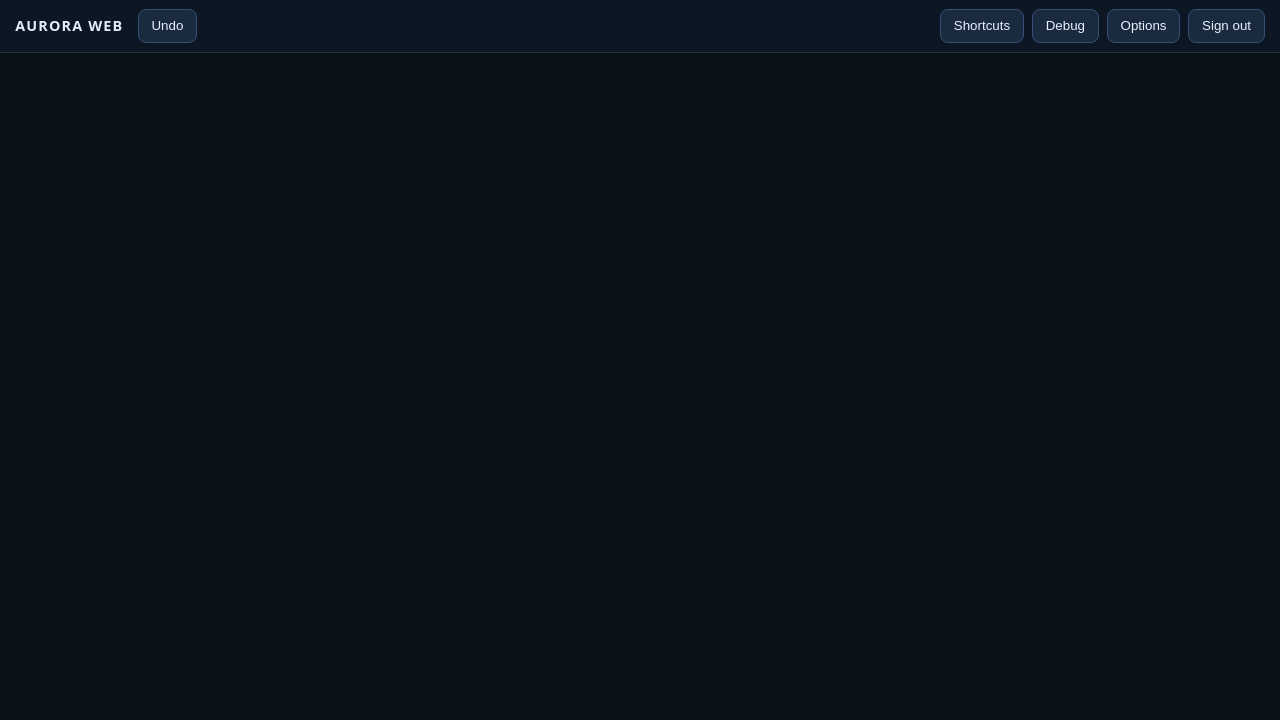
Scenario: WorkspaceTopbar facades injection › keeps placeables mode topbar focused without area editor groups or options
Expected: the button "Undo" is shown, [138,9,197,43]
What coordinates should you click on to do the following:
click the button with aria-label "open quick options"
I would click on:
 (1144, 26)
Its box is [1107,9,1180,43].
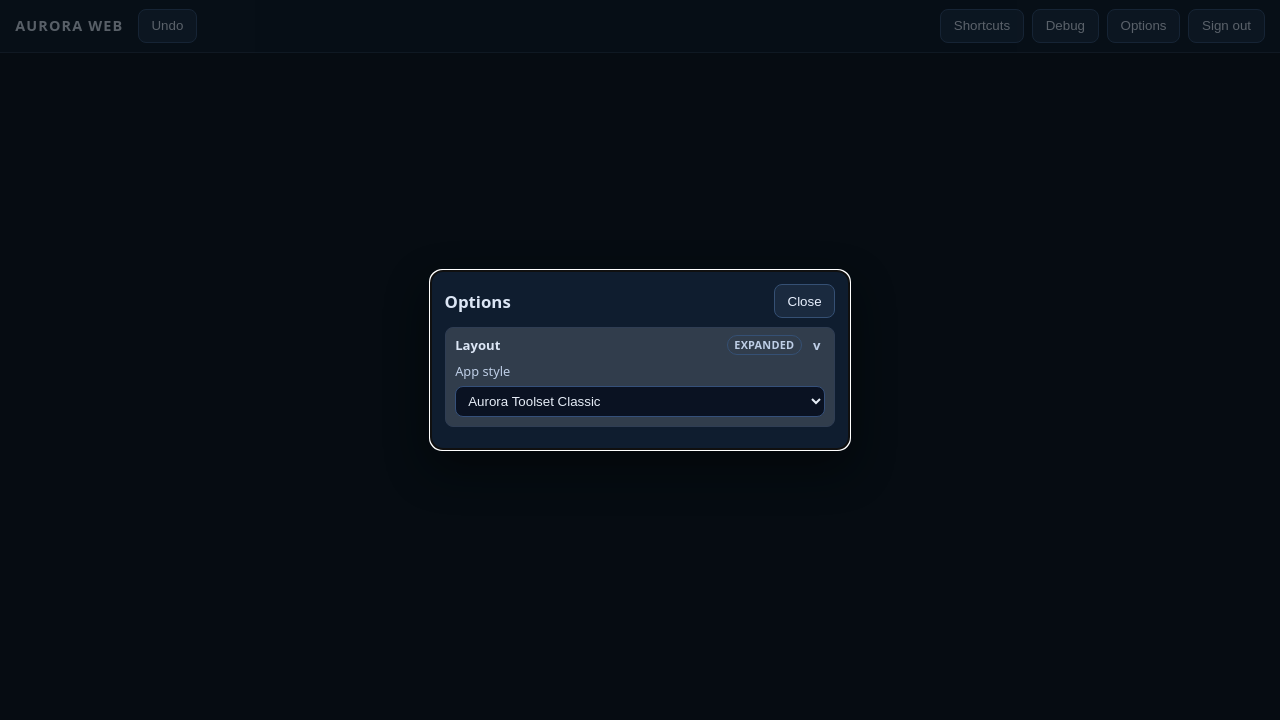
Expected: the element "Layout Expanded v App style" is shown, [445,327,835,427]
